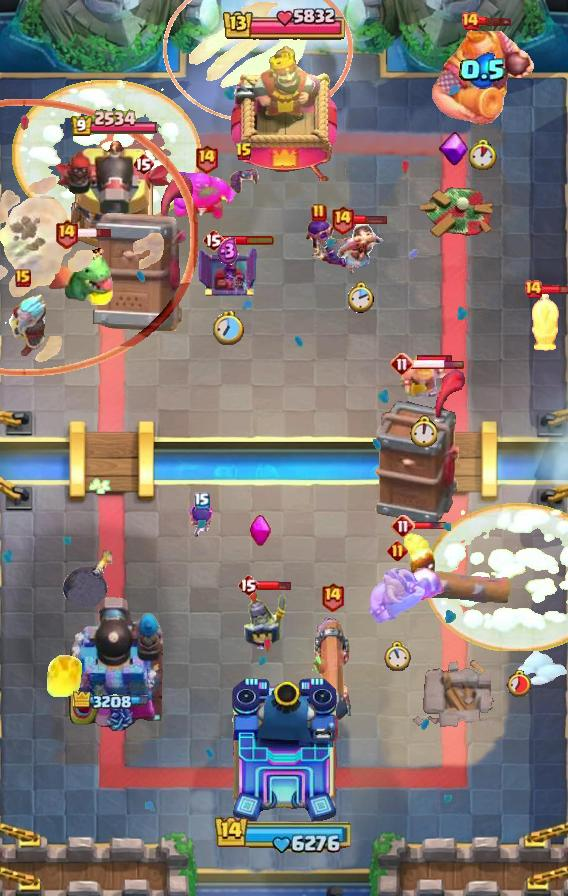archer: (399, 356, 447, 400)
baby-dragon: (63, 548, 114, 610)
barbarian-barrel: (228, 164, 260, 194)
battle-healer: (308, 615, 356, 727)
bomber: (402, 531, 438, 581)
clock: (214, 814, 354, 854), (221, 5, 347, 45)
dart-goblin: (91, 175, 195, 333), (375, 368, 466, 526)
electro-spirit: (459, 51, 507, 89), (217, 238, 239, 266)
electro-wizard: (48, 235, 116, 305)
elixir: (212, 311, 243, 345), (409, 415, 437, 447), (349, 281, 375, 314), (469, 139, 497, 169), (384, 641, 411, 672), (507, 669, 533, 697)
emote: (411, 358, 465, 370), (222, 234, 275, 246), (256, 580, 292, 593), (75, 227, 113, 239), (477, 15, 513, 27), (418, 355, 455, 366), (352, 215, 387, 226), (540, 284, 567, 297), (413, 521, 447, 531)
executioner: (530, 290, 562, 354)
giant-skeleton: (430, 25, 536, 127)
goblin: (187, 501, 217, 541)
goblin-ball: (303, 215, 359, 271)
goblin-giant: (368, 565, 426, 625)
ice-spirit-evolution-symbol: (196, 245, 260, 299)
ice-wizard: (163, 0, 353, 123)
king-tower: (228, 676, 340, 826), (231, 45, 337, 181)
minion: (412, 567, 512, 605)
mirror: (399, 568, 449, 606)
mortar: (0, 292, 52, 356)
phoenix-big: (12, 79, 201, 229), (424, 503, 567, 651)
princess: (241, 587, 289, 649)
royal-ghost: (0, 98, 198, 378)
selected: (69, 110, 158, 138), (73, 691, 155, 713)
skeleton-dragon: (335, 218, 387, 276)
skeleton-king-skill: (438, 130, 471, 168), (249, 514, 273, 548)
text: (193, 142, 218, 173), (330, 205, 355, 236), (53, 219, 78, 250), (320, 581, 344, 612), (390, 352, 414, 376), (391, 514, 415, 538), (132, 152, 154, 176), (202, 228, 224, 252), (237, 573, 259, 597), (387, 539, 408, 560), (460, 11, 480, 31), (523, 279, 543, 299), (235, 142, 253, 162), (311, 203, 327, 223), (15, 269, 31, 287), (194, 492, 210, 510)
tornado: (174, 171, 238, 221)
tower-bar: (53, 138, 175, 256), (65, 593, 163, 731)
valkyrie: (45, 651, 85, 699)
